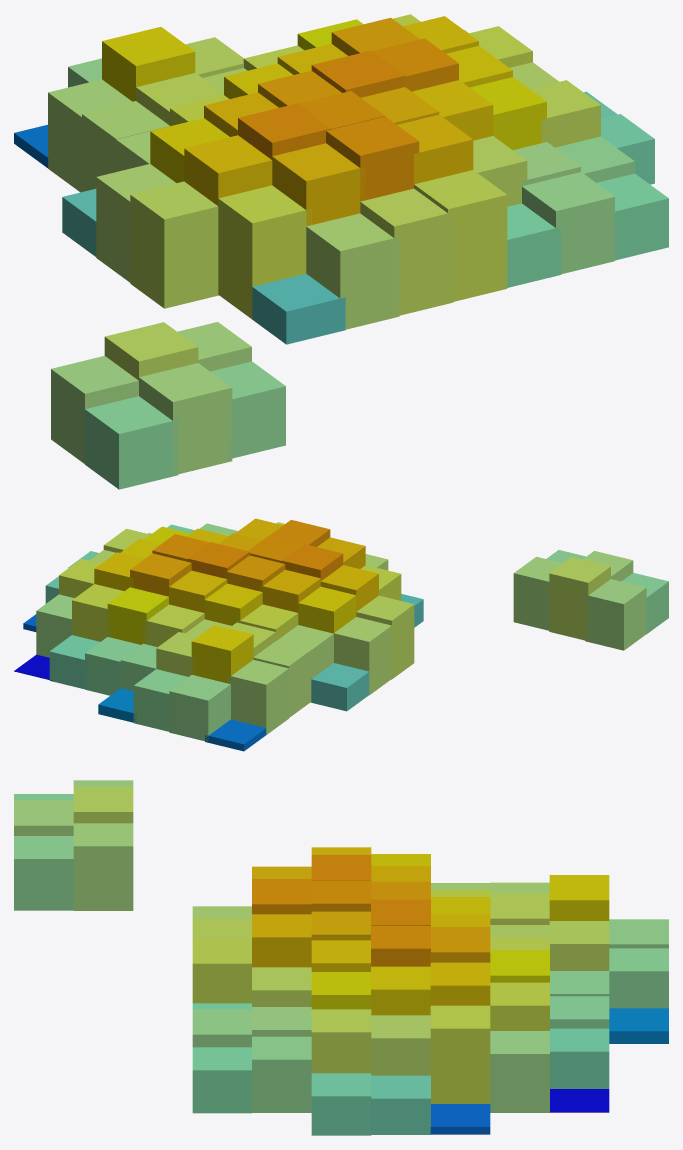
File: population.glb
The picture shows the model from 3 angles, top to bottom: view 1: azimuth 30°, elevation 25°; view 2: azimuth 150°, elevation 25°; view 3: azimuth 270°, elevation 25°; orthographic projection. The views are drawn at different scales.
Visible parts, largest first — view 1: population; view 2: population; view 3: population.
Boxes of the visible parts, x1,y1,x2,y2 form: population: (14, 14, 668, 489); population: (14, 518, 668, 751); population: (14, 780, 668, 1135).
Size of the model in its own units: 1191 by 234 by 1095.
